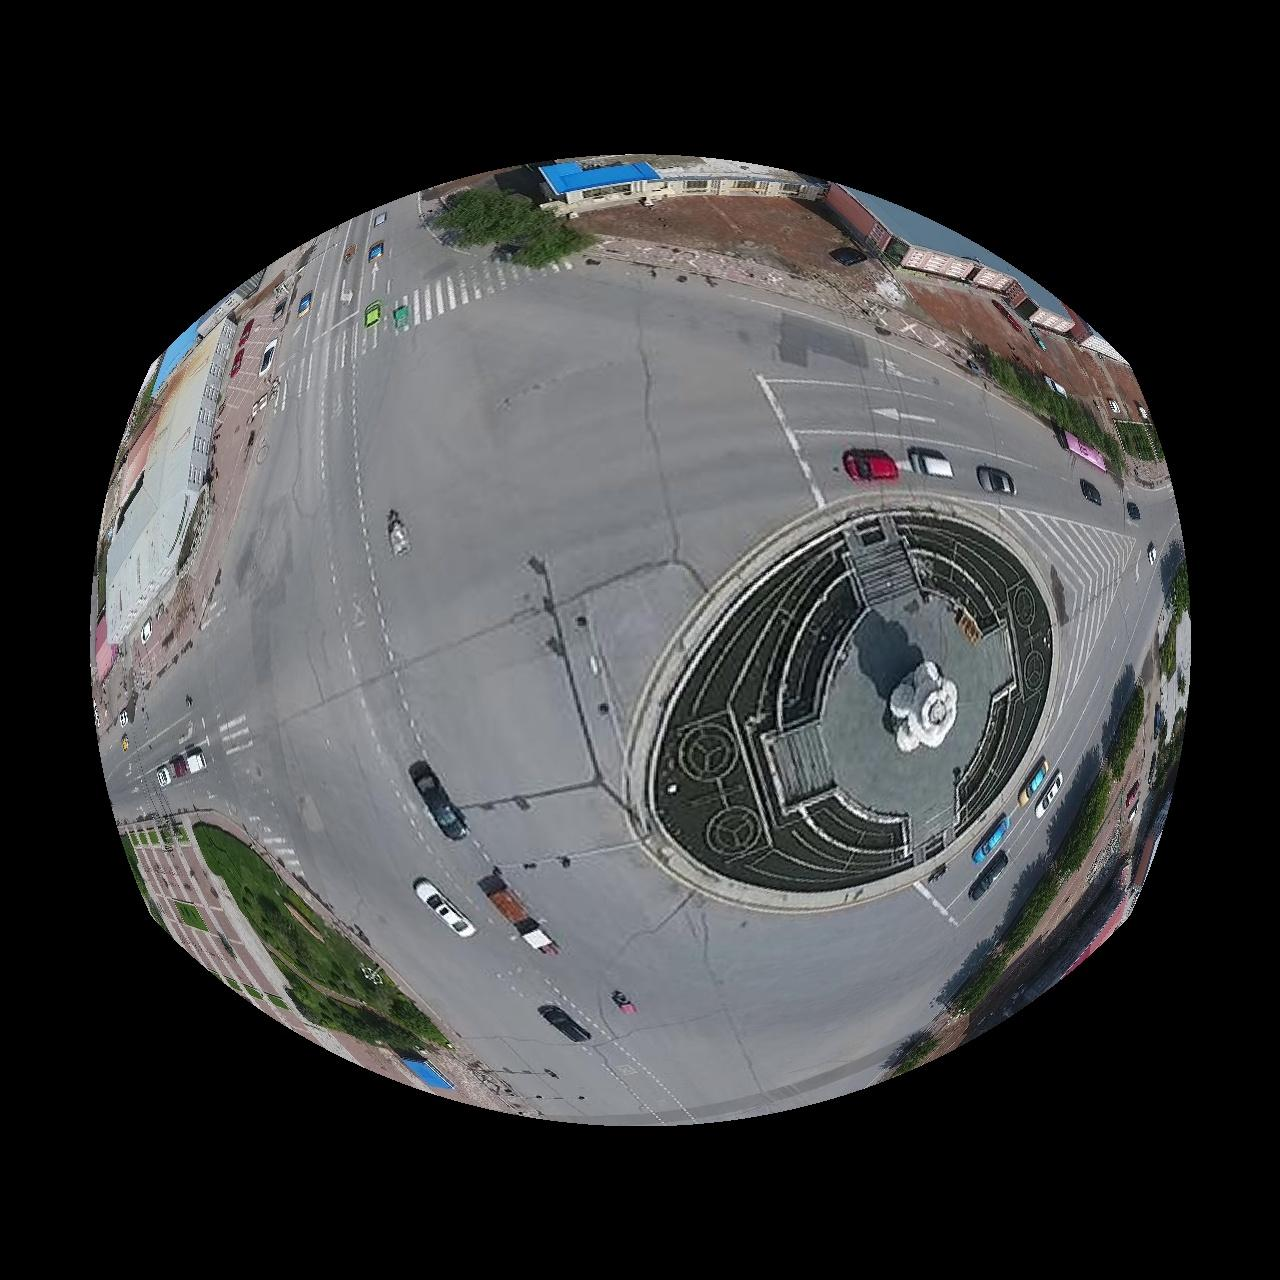building: (826, 183, 1130, 362), (95, 319, 235, 644), (540, 156, 828, 216), (397, 1053, 454, 1092)
cars: (478, 869, 559, 956), (408, 761, 468, 840), (412, 879, 476, 940), (1054, 422, 1109, 471), (538, 1006, 592, 1044), (155, 748, 205, 788), (844, 449, 900, 482), (910, 447, 954, 478), (979, 465, 1017, 494), (258, 339, 276, 374), (1084, 479, 1105, 506), (236, 318, 252, 346), (363, 300, 380, 326), (229, 347, 244, 376), (296, 291, 312, 314), (368, 240, 383, 260), (1130, 501, 1142, 520), (372, 210, 387, 224)
trees: (193, 823, 448, 1060), (973, 340, 1128, 478), (432, 186, 594, 267), (936, 931, 1011, 1020), (1008, 863, 1067, 952), (1067, 770, 1115, 870), (1159, 541, 1192, 681), (1109, 685, 1146, 780), (878, 1029, 941, 1084), (1117, 418, 1167, 462), (972, 1022, 1001, 1040)
